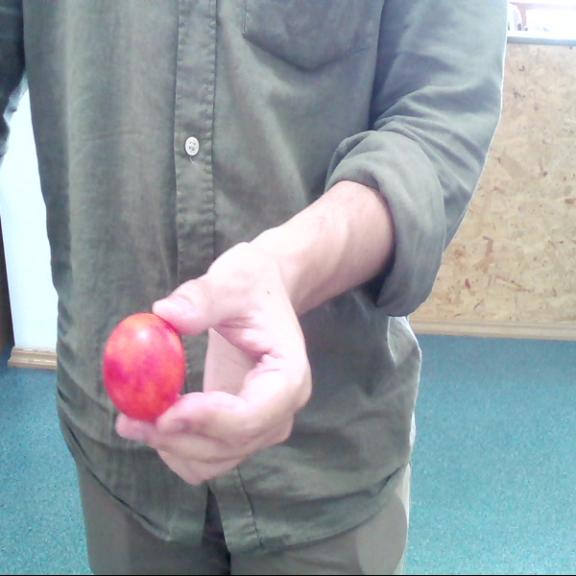ball: (104, 312, 184, 421)
